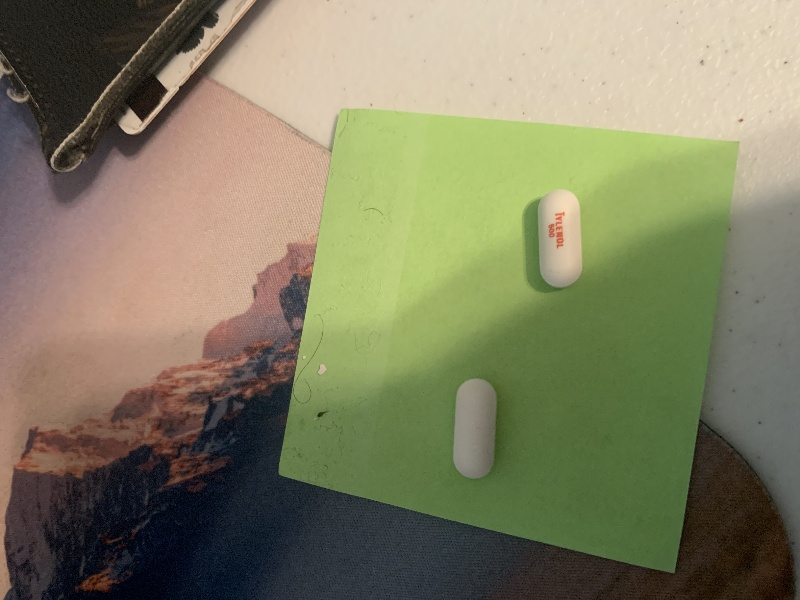Tylenol: (529, 187, 591, 295), (449, 376, 502, 486)
